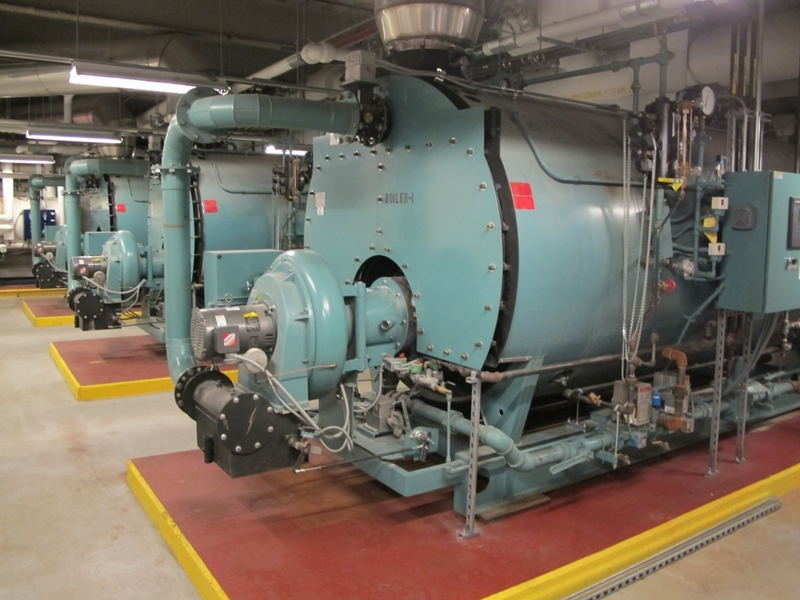valve: (653, 173, 689, 189), (652, 439, 674, 448)
